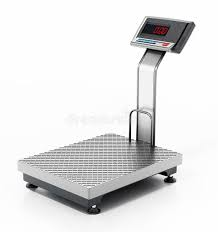Industrial Scale: (17, 15, 198, 214)
